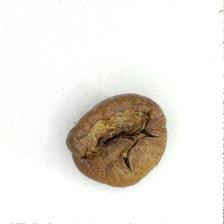NG: (81, 105, 164, 173)
